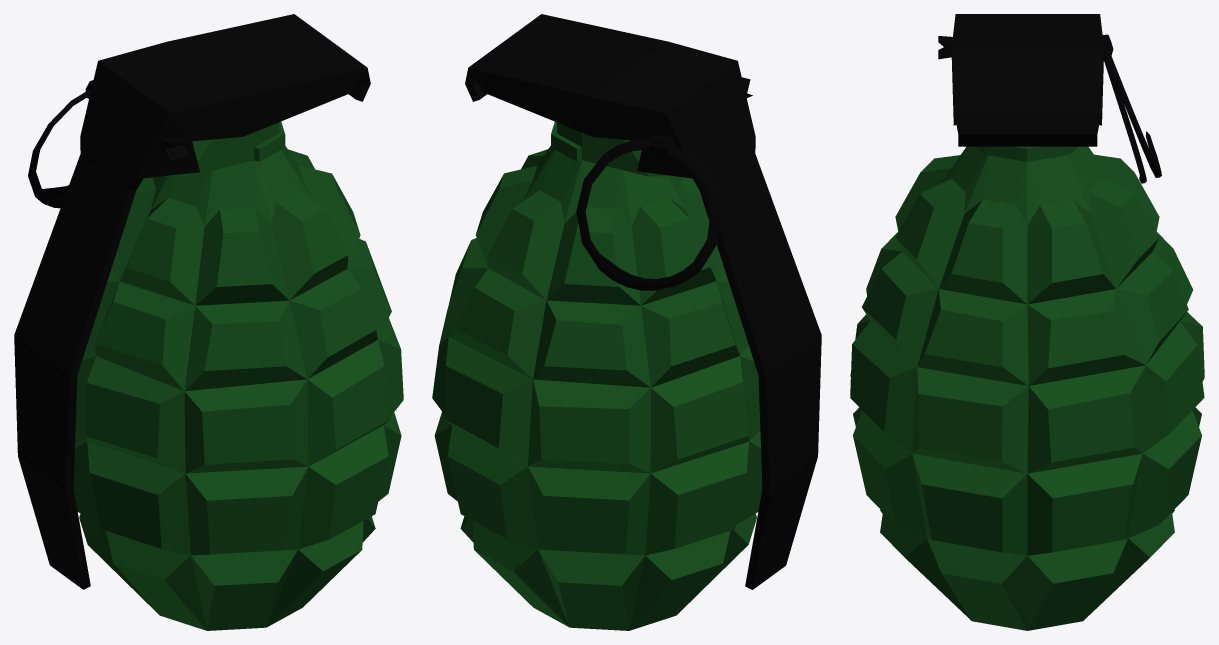
The model's file is Bomb luu dan.fbx.
The picture shows the model from 3 angles, left to right: view 1: azimuth 30°, elevation 25°; view 2: azimuth 150°, elevation 25°; view 3: azimuth 270°, elevation 25°; orthographic projection.
Parts seen in each view (by area): view 1: Bomb_luu_dan; view 2: Bomb_luu_dan; view 3: Bomb_luu_dan.
Boxes of the visible parts, x1,y1,x2,y2 form: Bomb_luu_dan: (14, 14, 403, 630); Bomb_luu_dan: (432, 14, 821, 630); Bomb_luu_dan: (850, 14, 1204, 630).
Bounding box in the file's own units: 100 × 152 × 90.6.
1 material, 1 textured.
